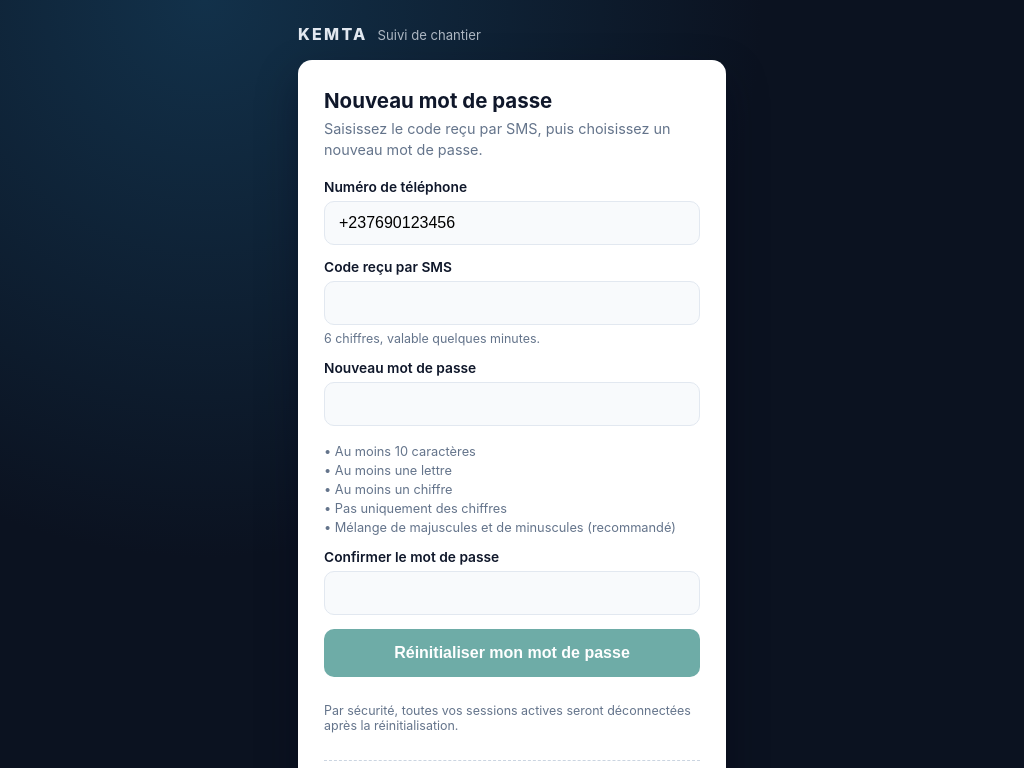
ResetPasswordPage › affiche un état explicite quand le réseau est absent
This screenshot has width=1024, height=768.
Type "123456" into the field labelled "Code reçu par SMS" at [512, 303], box left=324, top=281, right=700, bottom=325
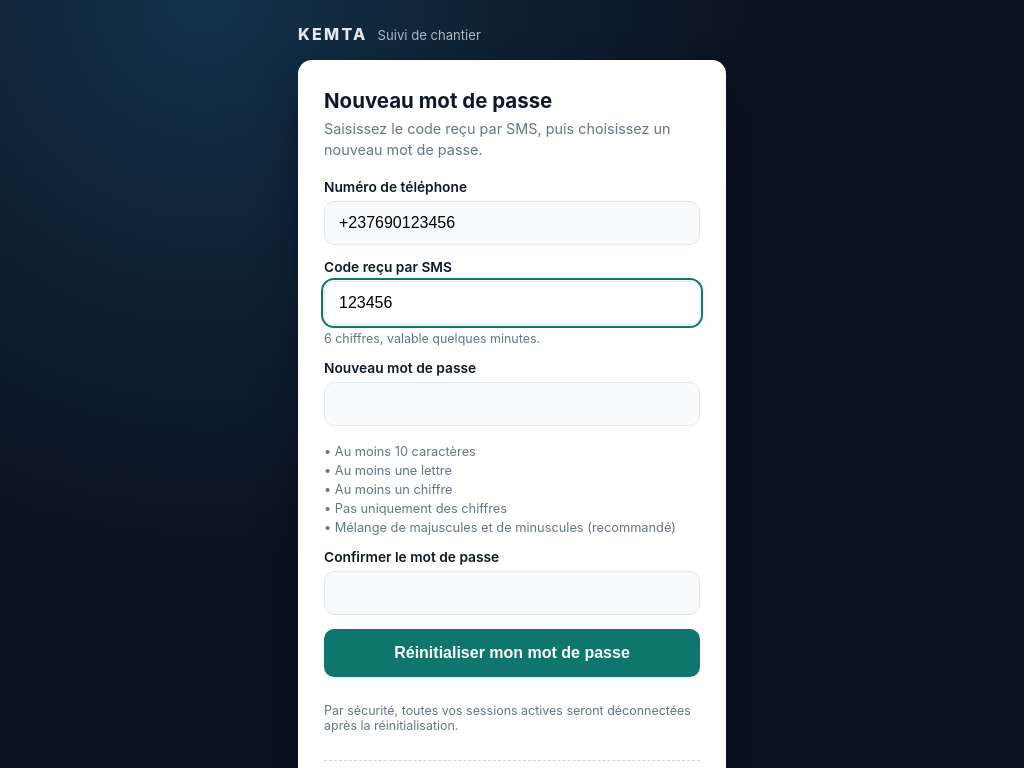
Type "Kemta#2026Douala" into the password field labelled "Nouveau mot de passe" at [512, 404], box left=324, top=382, right=700, bottom=426
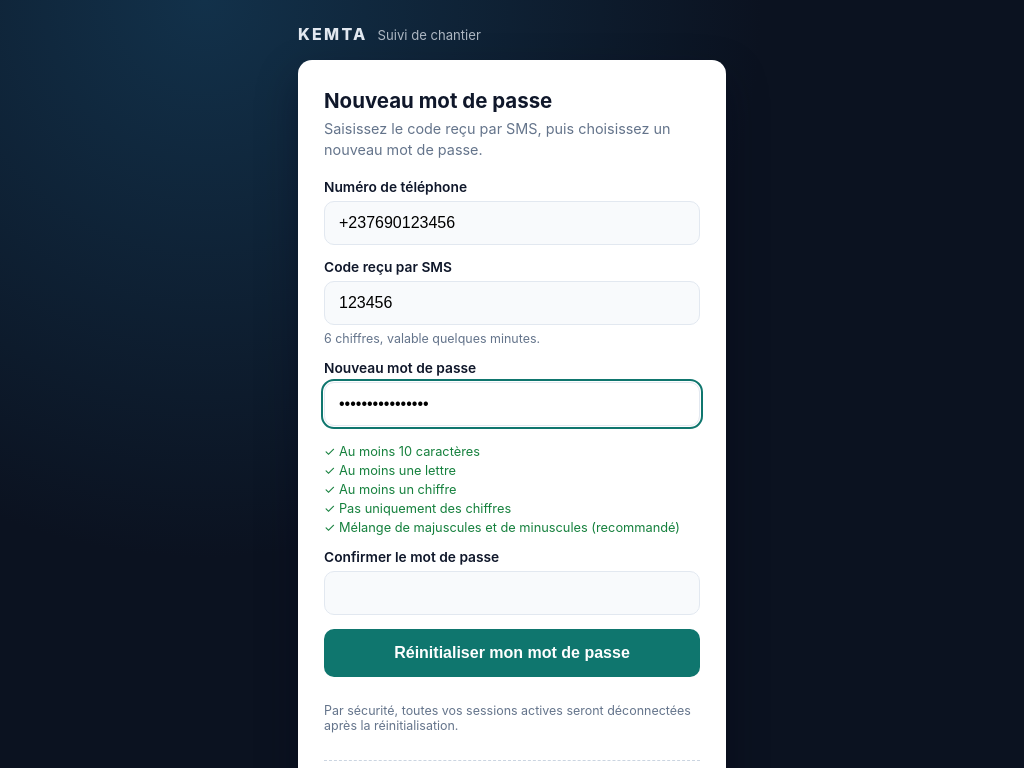
Type "Kemta#2026Douala" into the password field labelled "Confirmer le mot de passe" at [512, 593], box left=324, top=571, right=700, bottom=615
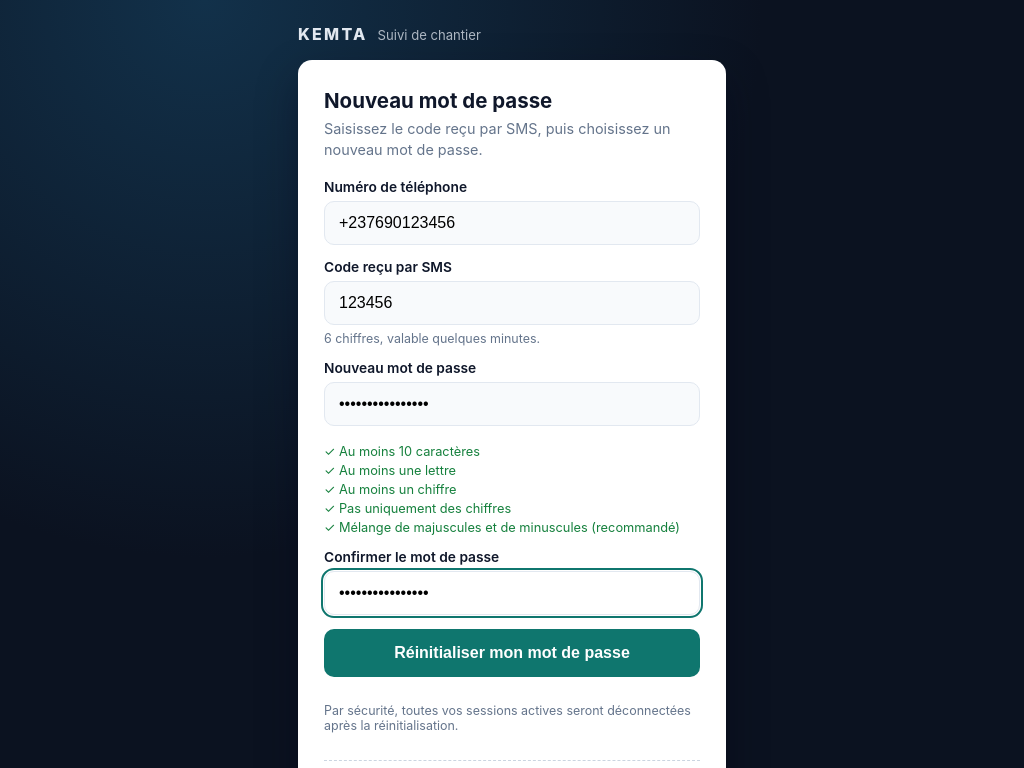
Click the button "Réinitialiser mon mot de passe" at [512, 653], box left=324, top=629, right=700, bottom=677
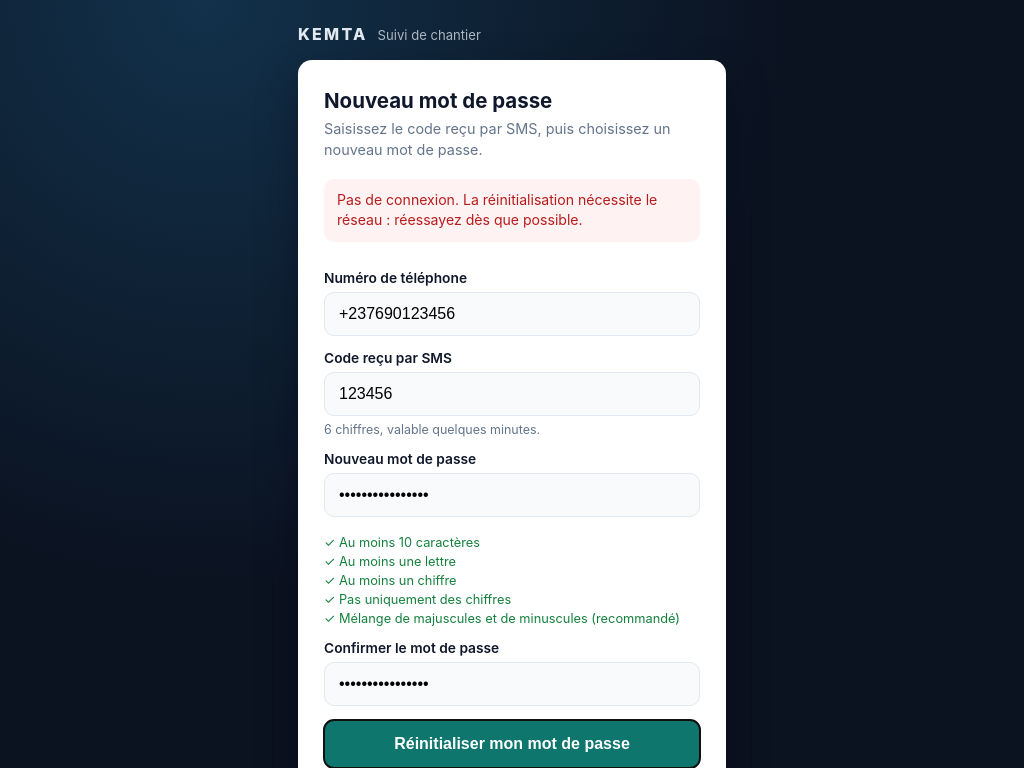
Expected: the message shows "Pas de connexion", left=337, top=191, right=657, bottom=228
